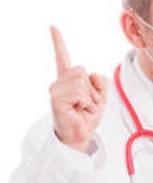up: (45, 24, 108, 144)
